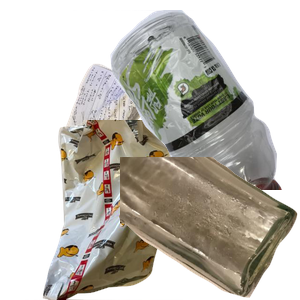glass: (120, 157, 300, 300)
paper: (63, 61, 242, 206)
plastic: (73, 10, 300, 190)
trash: (25, 120, 198, 300)
